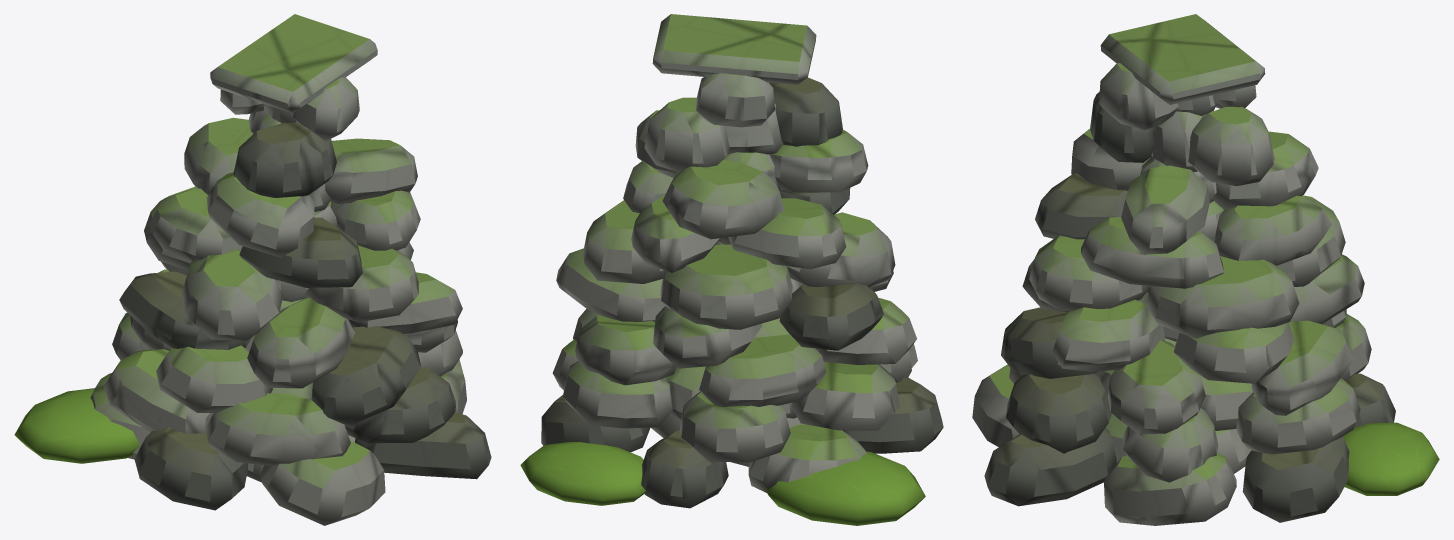
File: cairn.glb
3 views of the same model, side by side, from view 1: azimuth 30°, elevation 25°; view 2: azimuth 150°, elevation 25°; view 3: azimuth 270°, elevation 25° (orthographic). The views are drawn at different scales.
Parts seen in each view (by area): view 1: cairn.001; view 2: cairn.001; view 3: cairn.001.
Boxes of the visible parts, <box> form: cairn.001: <box>14,14,491,525</box>; cairn.001: <box>520,14,943,525</box>; cairn.001: <box>972,14,1439,525</box>.
Bounding box in the file's own units: 1.48 × 1.44 × 1.46.
3 materials, 3 textured.
